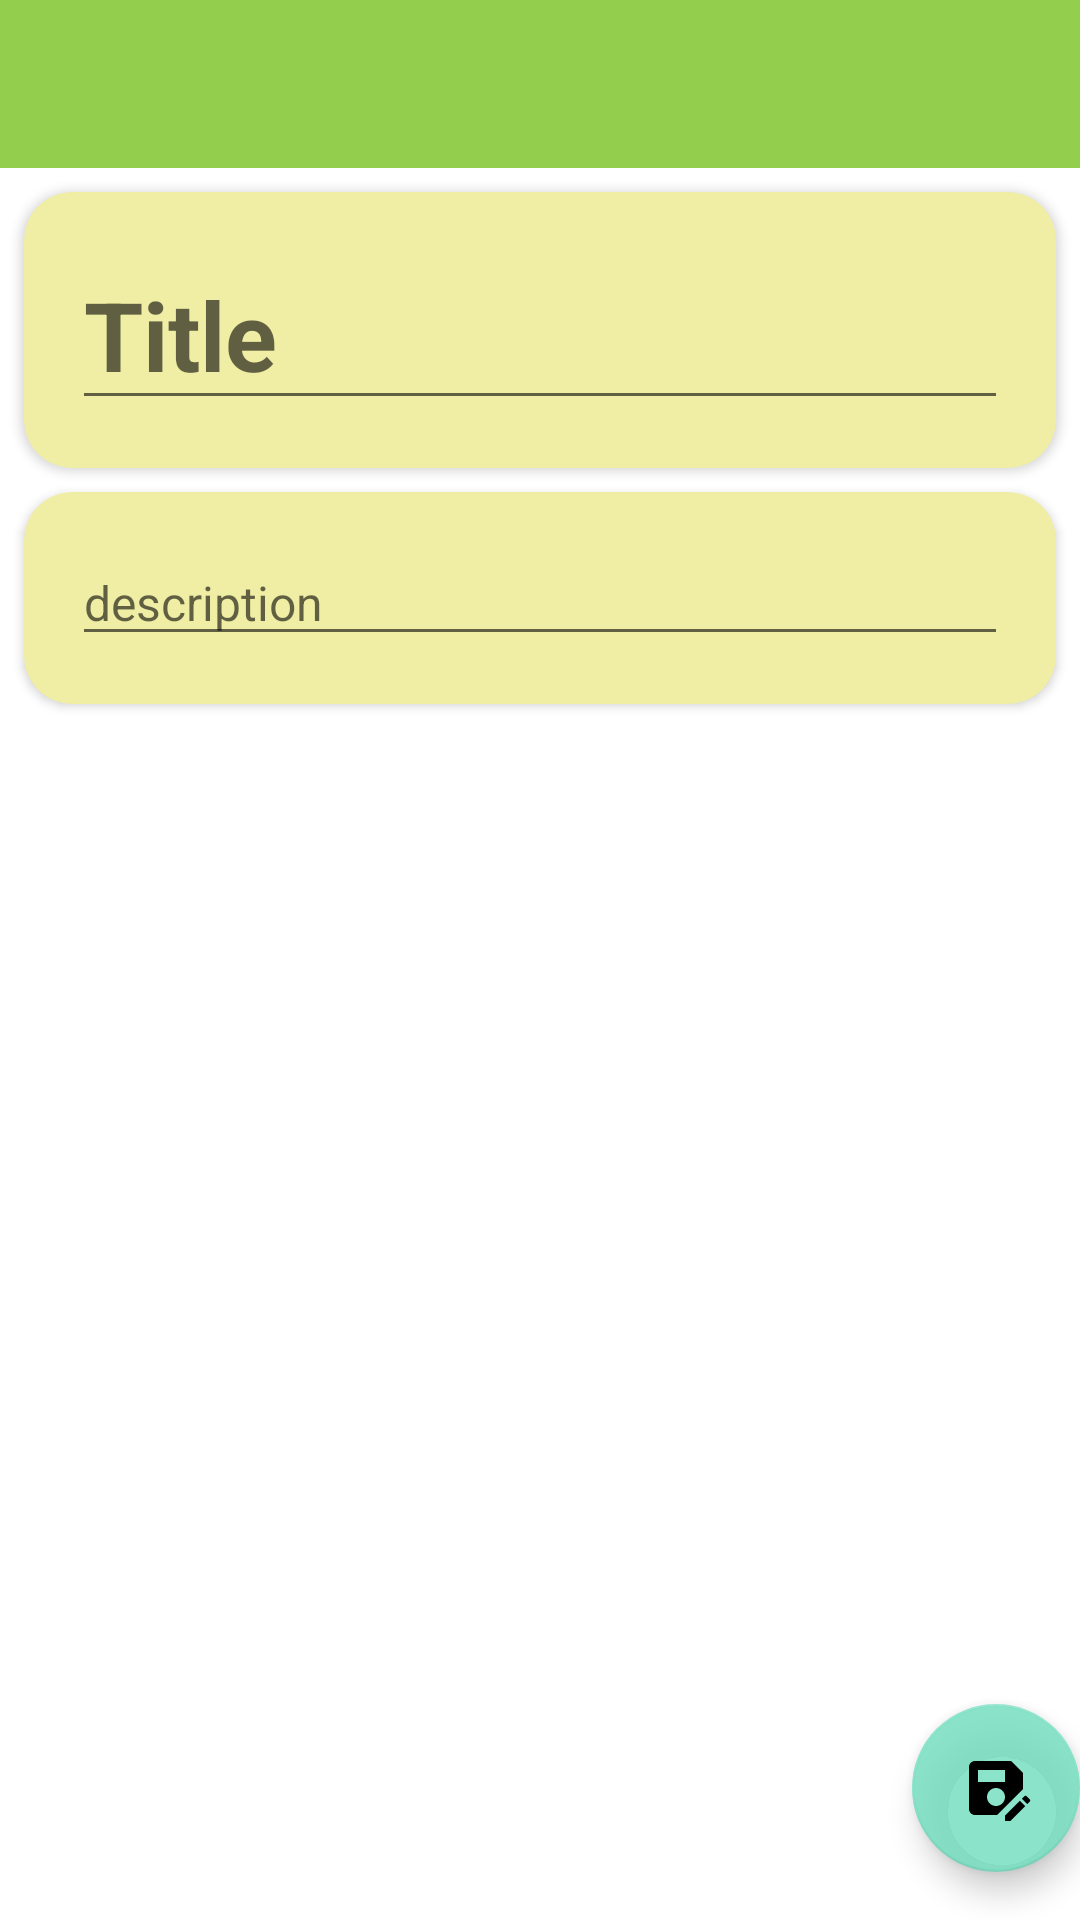

Screen size 1080px x 1920px. Icon name, then its box in pixels as (x1=x1, y1=y1, x2=x2, y2=y2):
save as: (x1=912, y1=1704, x2=1080, y2=1872)
